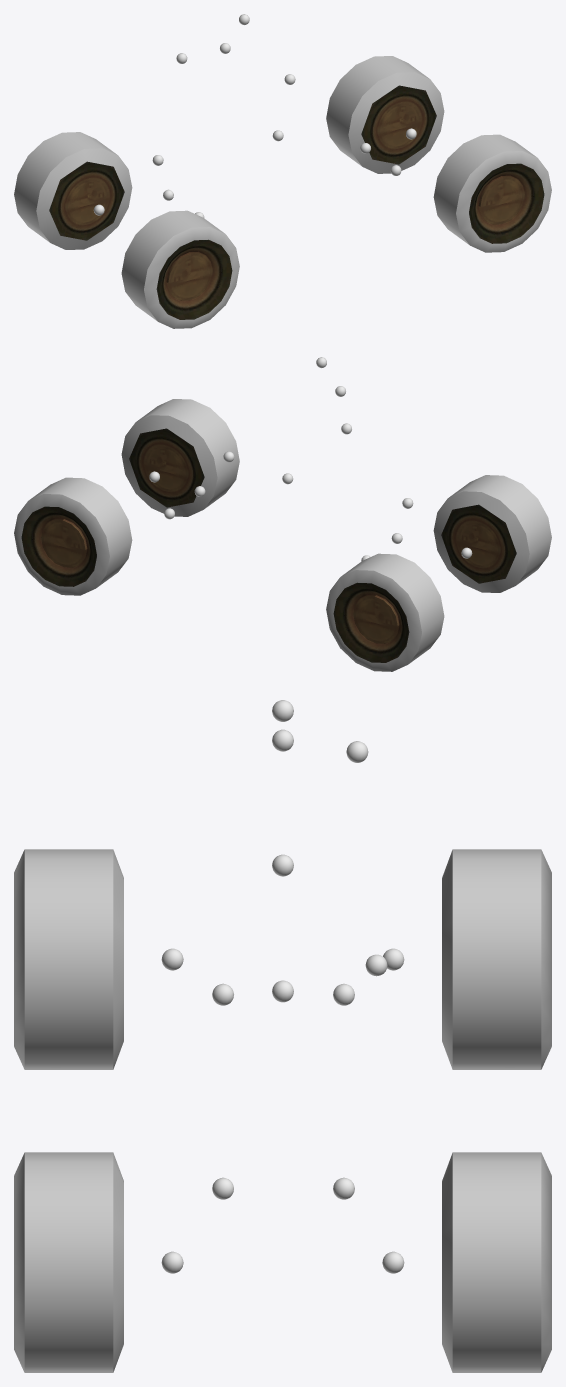
The model's file is ~blur.FBX.
3 renders of one model, top to bottom at view 1: azimuth 30°, elevation 25°; view 2: azimuth 150°, elevation 25°; view 3: azimuth 270°, elevation 25°, orthographic. The views are drawn at different scales.
Parts seen in each view (by area): view 1: right front tire~, right back tire~, left back tire~, left front tire~; view 2: left front tire~, left back tire~, right back tire~, right front tire~; view 3: left back tire~, right back tire~, left front tire~, right front tire~.
Boxes of the visible parts, x1,y1,x2,y2 form: right front tire~: (433,134,551,252); right back tire~: (121,210,239,328); left back tire~: (14,132,132,249); left front tire~: (326,56,444,173); left front tire~: (14,477,132,595); left back tire~: (326,553,444,671); right back tire~: (433,475,551,592); right front tire~: (121,399,239,516); left back tire~: (442,849,551,1069); right back tire~: (14,849,123,1069); left front tire~: (442,1152,551,1372); right front tire~: (14,1152,123,1372).
Size of the model in its own units: 170 by 94.5 by 97.51.
